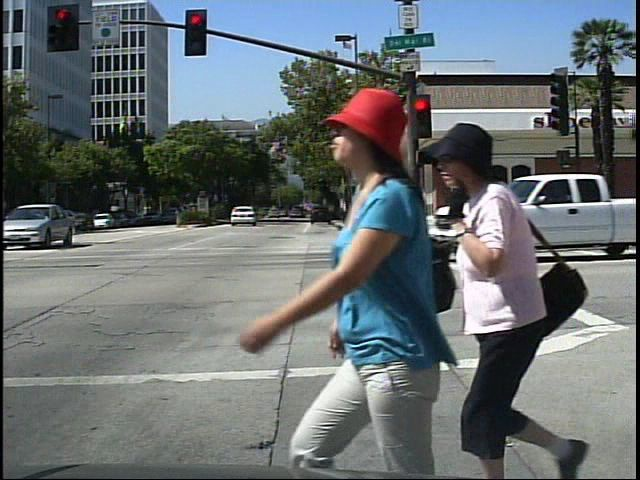person: (271, 64, 456, 478), (435, 117, 586, 480)
